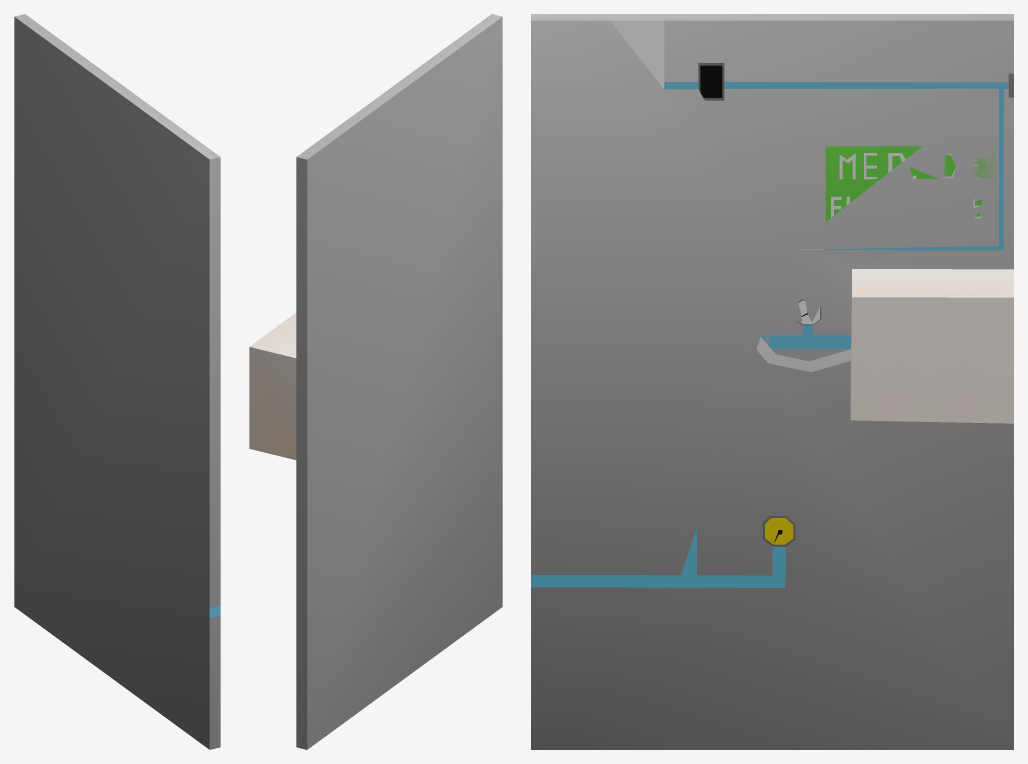
Rendered from Torre de medición de flujo.fbx.
The picture shows the model from 3 angles, left to right: view 1: azimuth 30°, elevation 25°; view 2: azimuth 150°, elevation 25°; view 3: azimuth 270°, elevation 25°; orthographic projection. The views are drawn at different scales.
Parts seen in each view (by area): view 1: Cube; view 2: Cube; view 3: Cube.
Part boxes in pixels (x1=…): Cube: x1=14, y1=14, x2=220, y2=749; Cube: x1=249, y1=14, x2=502, y2=749; Cube: x1=531, y1=14, x2=1013, y2=749.
Bounding box in the file's own units: 30.75 × 300 × 180.
